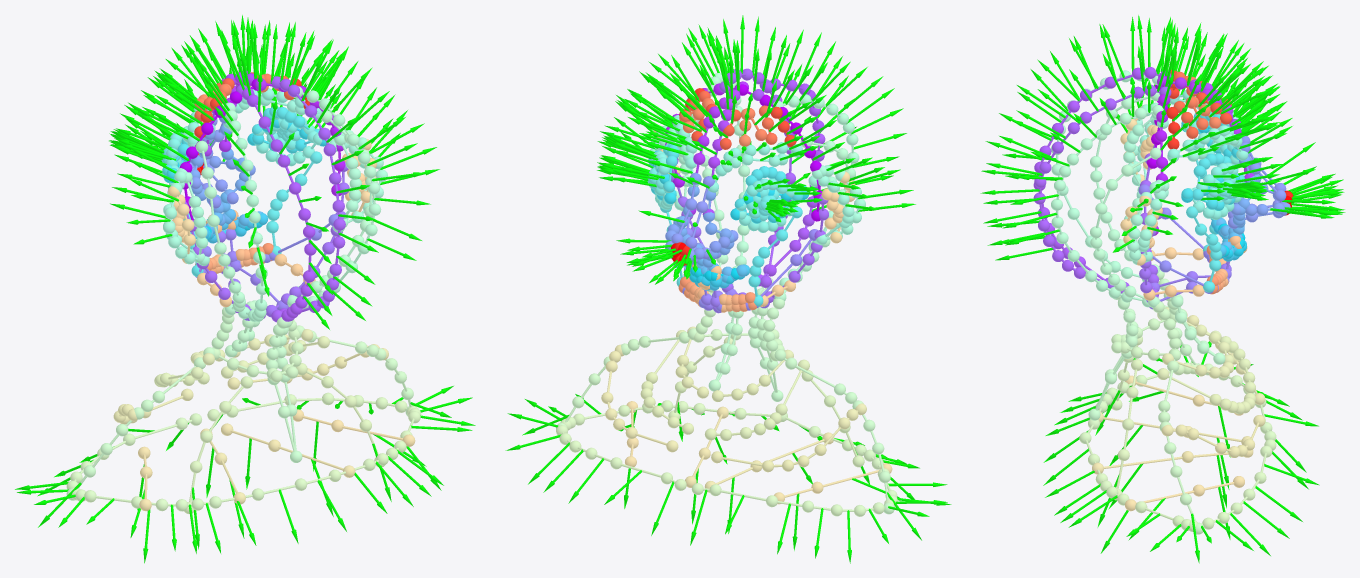
The model's file is author1_bust.gltf.
The picture shows the model from 3 angles, left to right: view 1: azimuth 30°, elevation 25°; view 2: azimuth 150°, elevation 25°; view 3: azimuth 270°, elevation 25°; orthographic projection. The views are drawn at different scales.
Bounding box in the file's own units: 0.8063 × 0.8588 × 0.6029.
